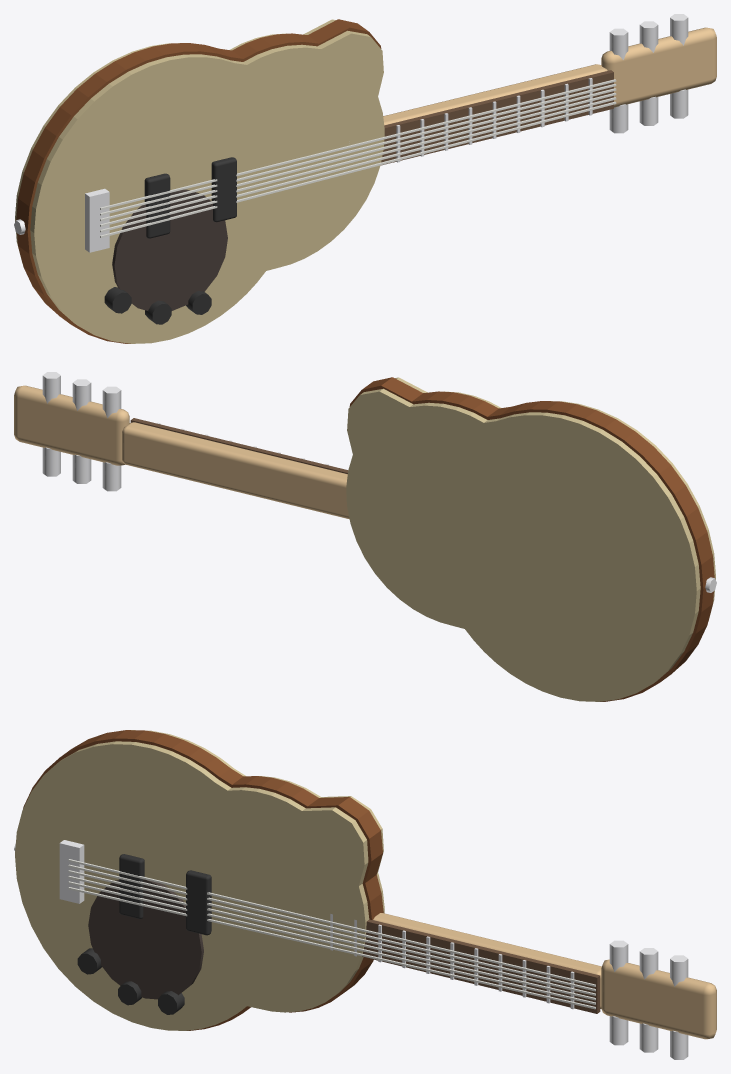
Rendered from guitar_rhythm.glb.
3 views of the same model, one above another, from view 1: azimuth 30°, elevation 25°; view 2: azimuth 150°, elevation 25°; view 3: azimuth 330°, elevation 25° (orthographic).
Visible parts, largest first — view 1: guitar_rhythm_shiny, guitar_rhythm_std, guitar_rhythm_metal; view 2: guitar_rhythm_shiny, guitar_rhythm_std; view 3: guitar_rhythm_shiny, guitar_rhythm_std, guitar_rhythm_metal.
Boxes of the visible parts, x1,y1,x2,y2 form: guitar_rhythm_shiny: (15, 19, 384, 343); guitar_rhythm_std: (14, 14, 716, 324); guitar_rhythm_metal: (100, 79, 616, 237); guitar_rhythm_shiny: (346, 377, 715, 701); guitar_rhythm_std: (14, 372, 716, 592); guitar_rhythm_shiny: (15, 730, 384, 1030); guitar_rhythm_std: (14, 840, 716, 1059); guitar_rhythm_metal: (68, 859, 595, 1009).
Size of the model in its own units: 1.04 by 0.408 by 0.07.
